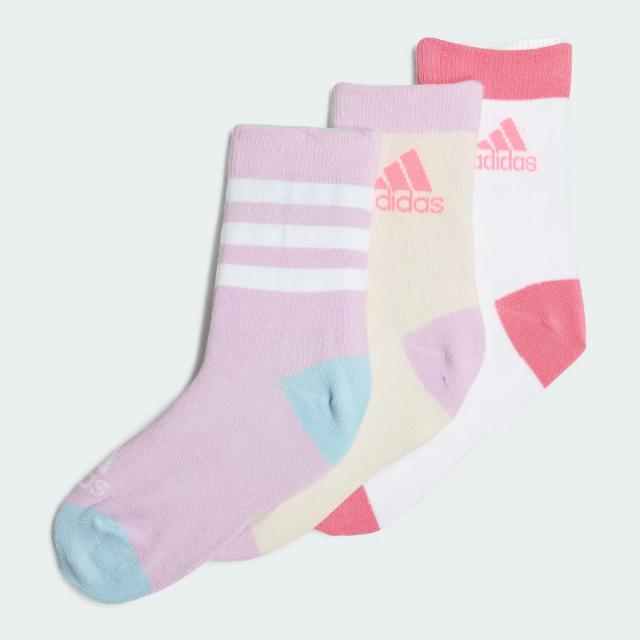sock: (51, 121, 382, 604), (312, 36, 587, 536), (210, 79, 487, 562)
